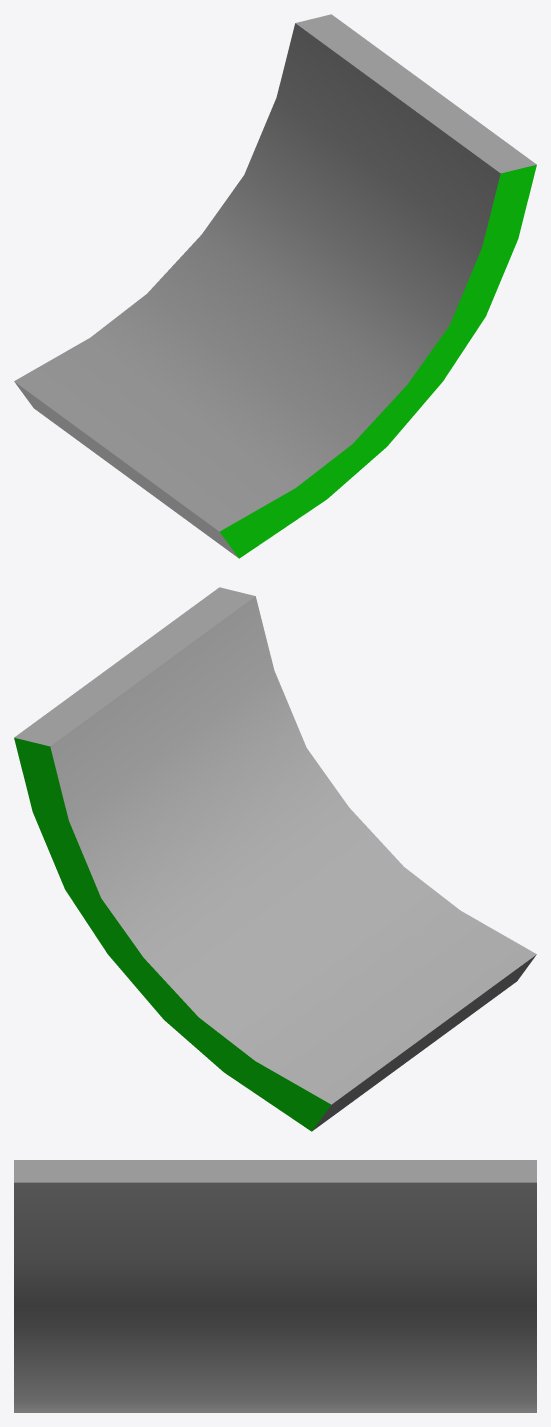
The model's file is Fild_Curv01.fbx.
The picture shows the model from 3 angles, top to bottom: view 1: azimuth 30°, elevation 25°; view 2: azimuth 150°, elevation 25°; view 3: azimuth 270°, elevation 25°; orthographic projection. The views are drawn at different scales.
Visible parts, largest first — view 1: pCube3; view 2: pCube3; view 3: pCube3.
Part boxes in pixels (box(x1,y1,x2,y2)): pCube3: box(14, 14, 536, 558); pCube3: box(14, 587, 536, 1131); pCube3: box(14, 1160, 536, 1412).
Bounding box in the file's own units: 1126 × 1089 × 1262.
